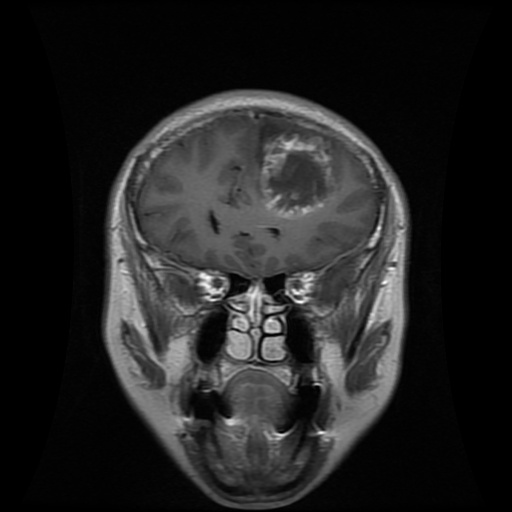glioma: (257, 124, 341, 219)
